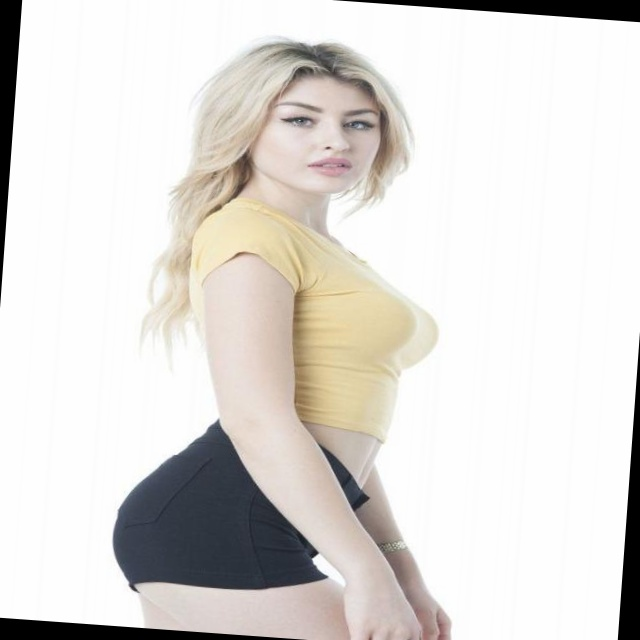Crop_Top: (285, 273, 445, 493)
Shorts: (103, 407, 384, 640)
